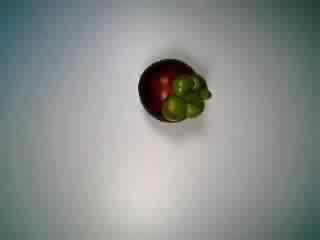mangosteen: (130, 53, 213, 128)
